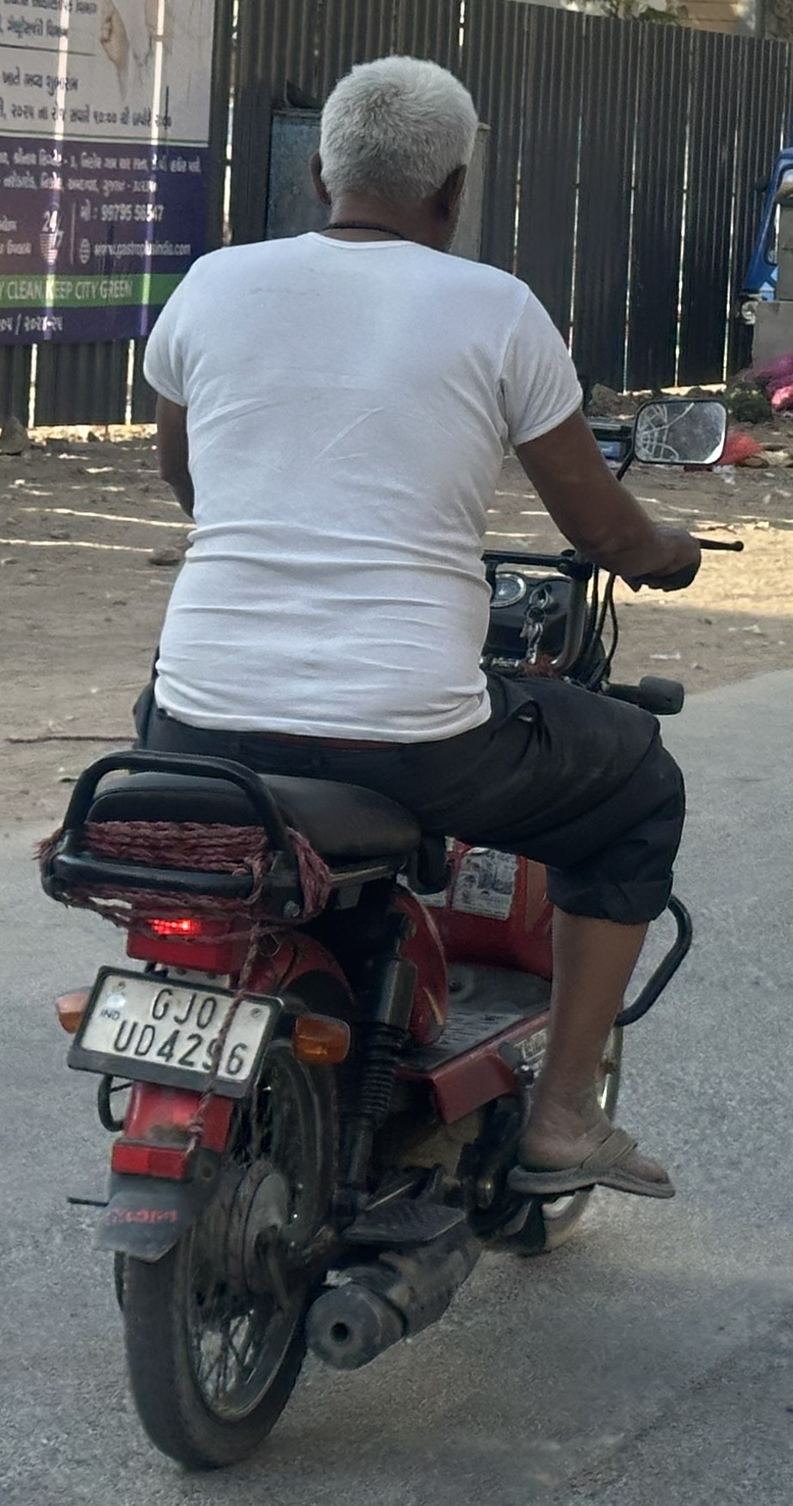BikeWithRider: (30, 43, 740, 1481)
NoHelmet: (312, 45, 504, 266)
